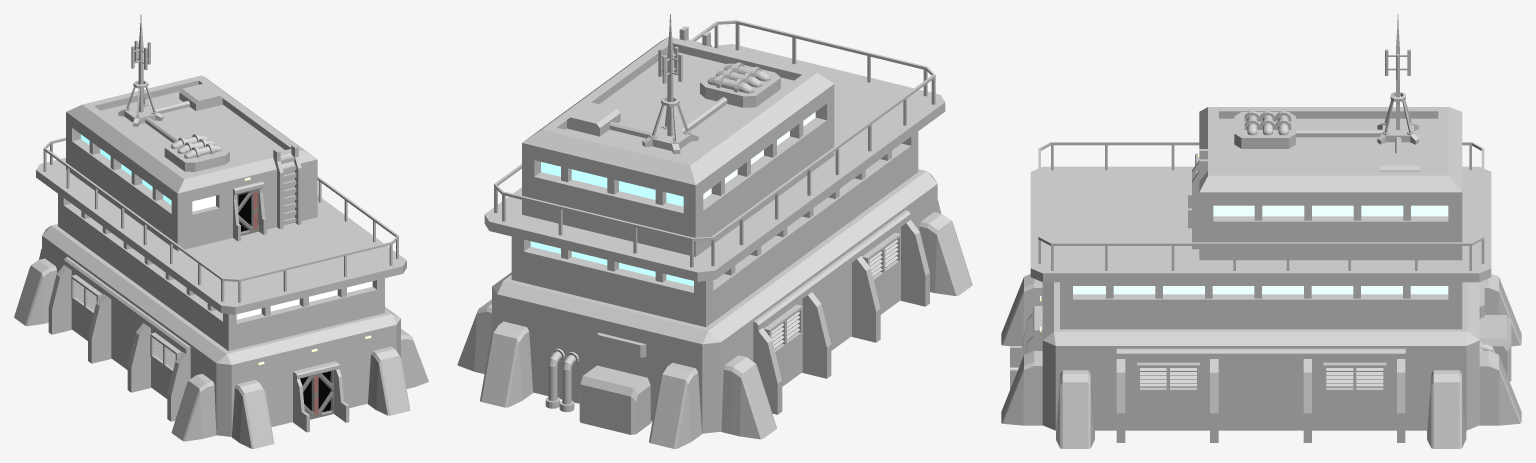
The model's file is habitat.glb.
3 renders of one model, left to right at view 1: azimuth 30°, elevation 25°; view 2: azimuth 150°, elevation 25°; view 3: azimuth 270°, elevation 25°, orthographic. The views are drawn at different scales.
Parts seen in each view (by area): view 1: Office building_1_, Door.001, Door.002, Door; view 2: Office building_1_; view 3: Office building_1_.
Part boxes in pixels (<box>): Office building_1_: <box>14,14,428,448</box>; Door.001: <box>314,370,333,418</box>; Door.002: <box>237,189,257,235</box>; Door: <box>300,374,318,419</box>; Office building_1_: <box>457,14,972,448</box>; Office building_1_: <box>1001,14,1521,448</box>.
Bounding box in the file's own units: 2.95 × 3.43 × 4.59.
Materials: 6 (4 with a texture image).
